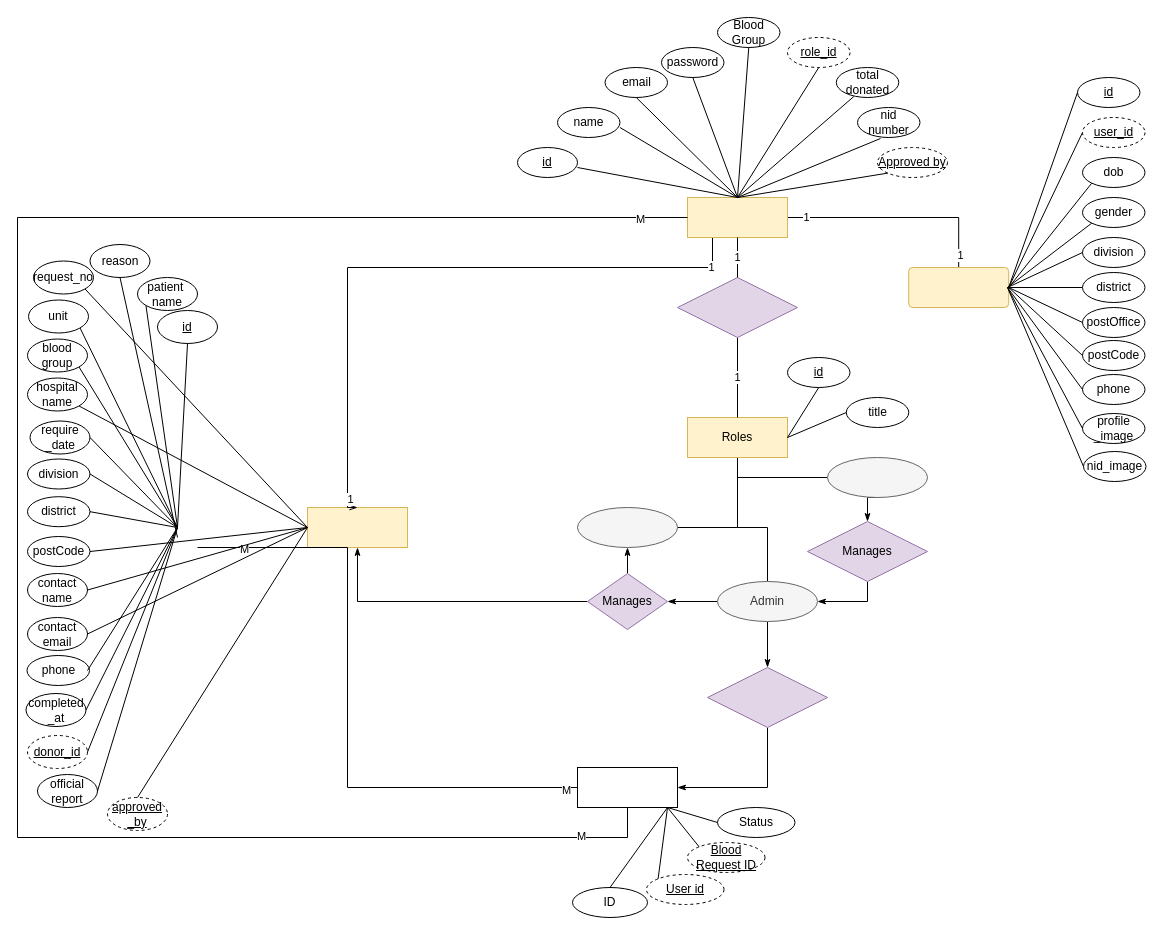
This 1164x935 diagram has some shape labels left out. Each missing label, with the centre of its shape:
"Assign" belongs at (x=767, y=697).
"Blood Request -Users" belongs at (x=627, y=787).
"Blood Requests" belongs at (x=357, y=527).
"Donor" belongs at (x=627, y=527).
"Login" belongs at (x=737, y=307).
"Profile" belongs at (x=958, y=287).
"SuperAdmin" belongs at (x=877, y=477).
"User" belongs at (x=737, y=217).
